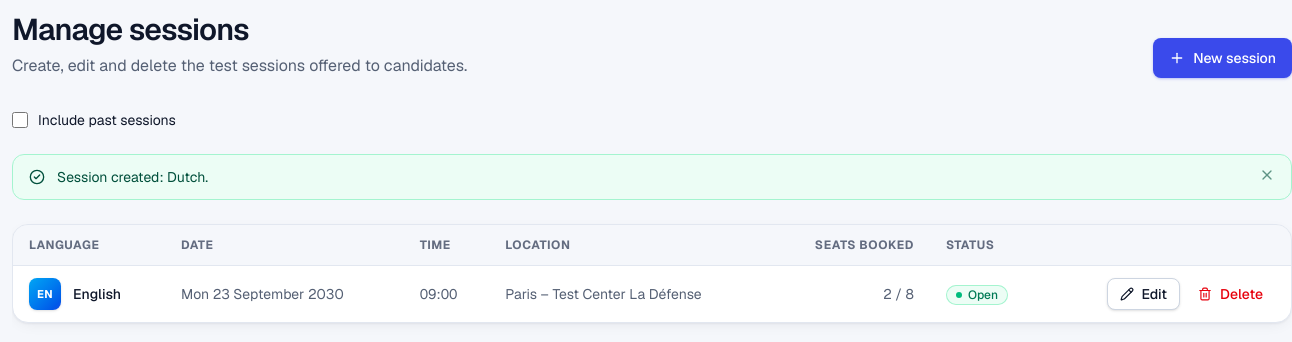
Test: AdminSessionsScreen › shows the message left by the create and edit screens
Expected: the text "Session created: Dutch." is shown, [57,168,208,186]
Click the button named "Dismiss". click: (1267,175)
box: [1255,163,1279,187]
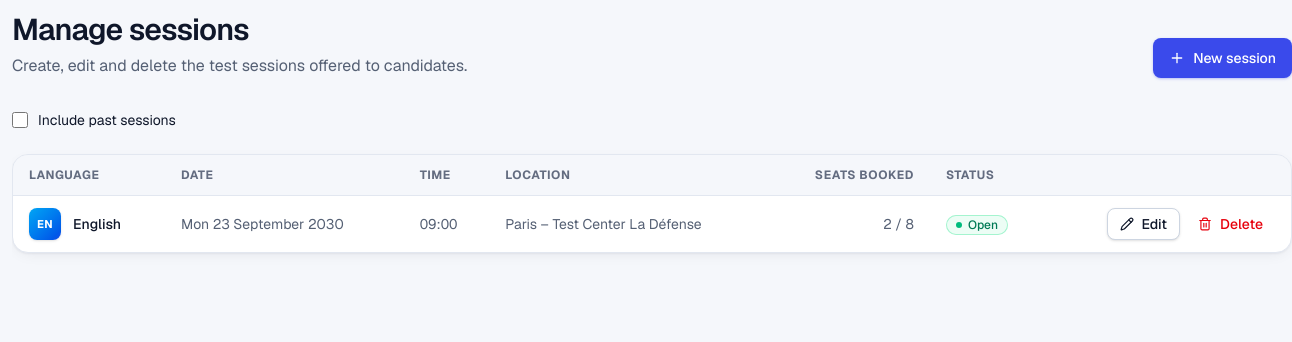
Now the text "Session created: Dutch." is gone
